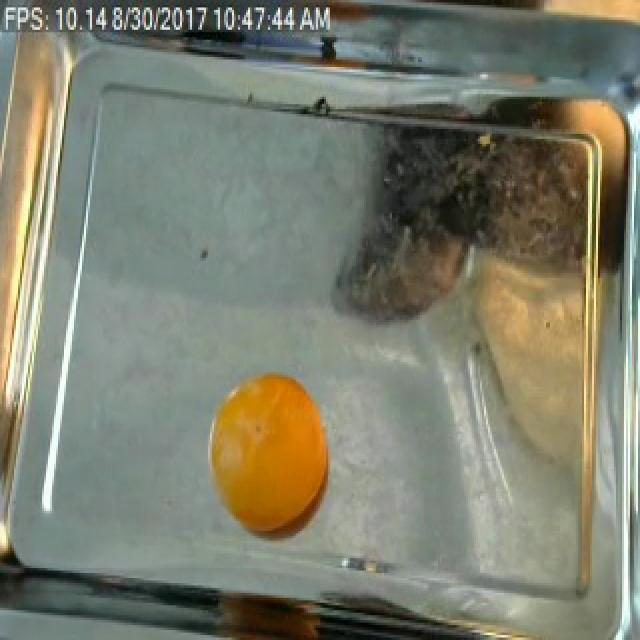Fruit: (206, 367, 334, 531), (480, 0, 640, 35)
